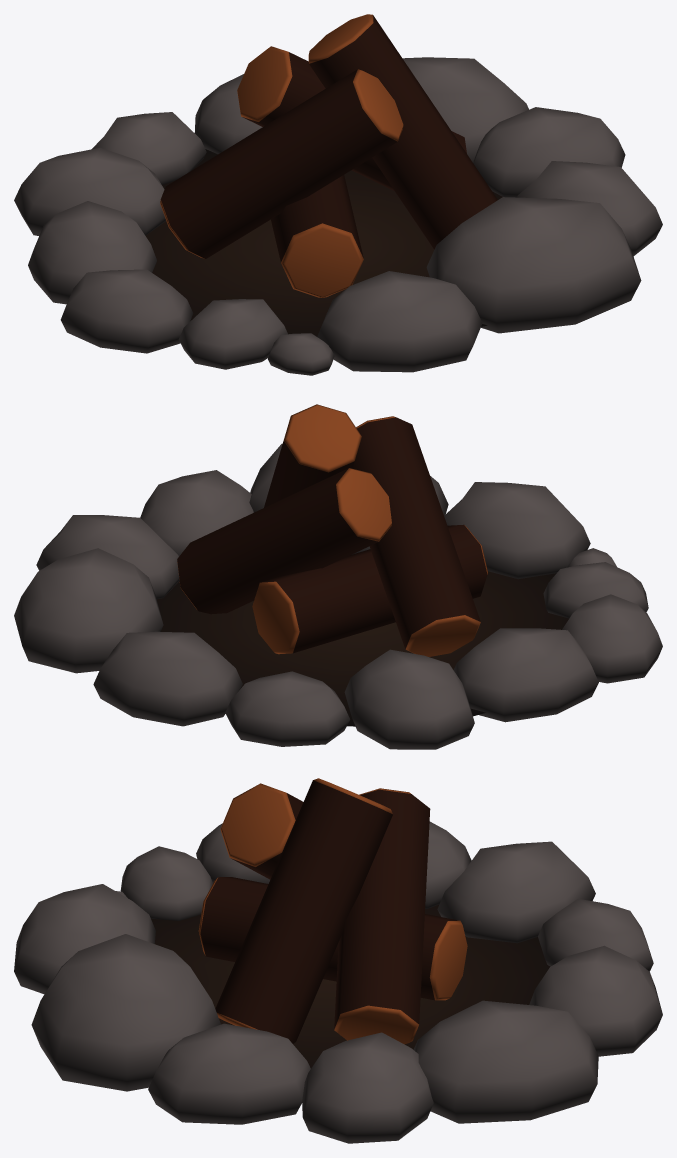
The model's file is Campfire.fbx.
3 renders of one model, top to bottom at view 1: azimuth 30°, elevation 25°; view 2: azimuth 150°, elevation 25°; view 3: azimuth 270°, elevation 25°, orthographic. The views are drawn at different scales.
Visible parts, largest first — view 1: Campfire; view 2: Campfire; view 3: Campfire.
Boxes of the visible parts, <box> form: Campfire: <box>14,14,662,375</box>; Campfire: <box>14,404,662,749</box>; Campfire: <box>14,778,662,1143</box>.
Size of the model in its own units: 139 by 50.38 by 126.
